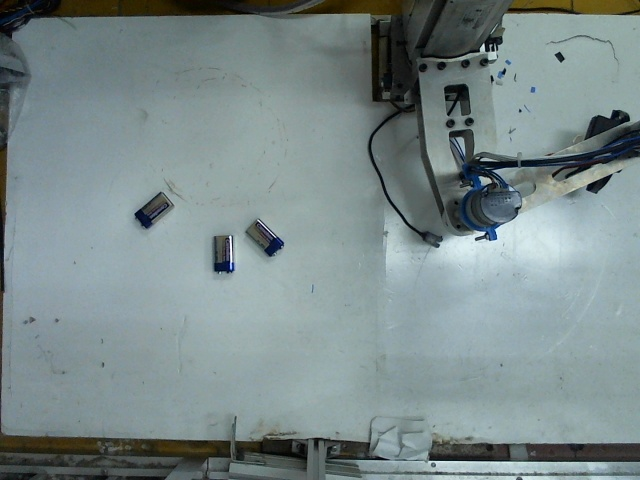battery: (129, 188, 175, 229), (244, 214, 284, 253), (207, 228, 235, 277)
